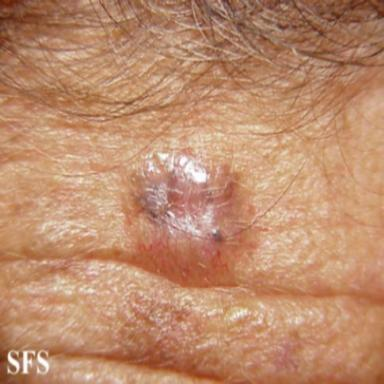basal-cell-carcinoma: (128, 152, 240, 265)
